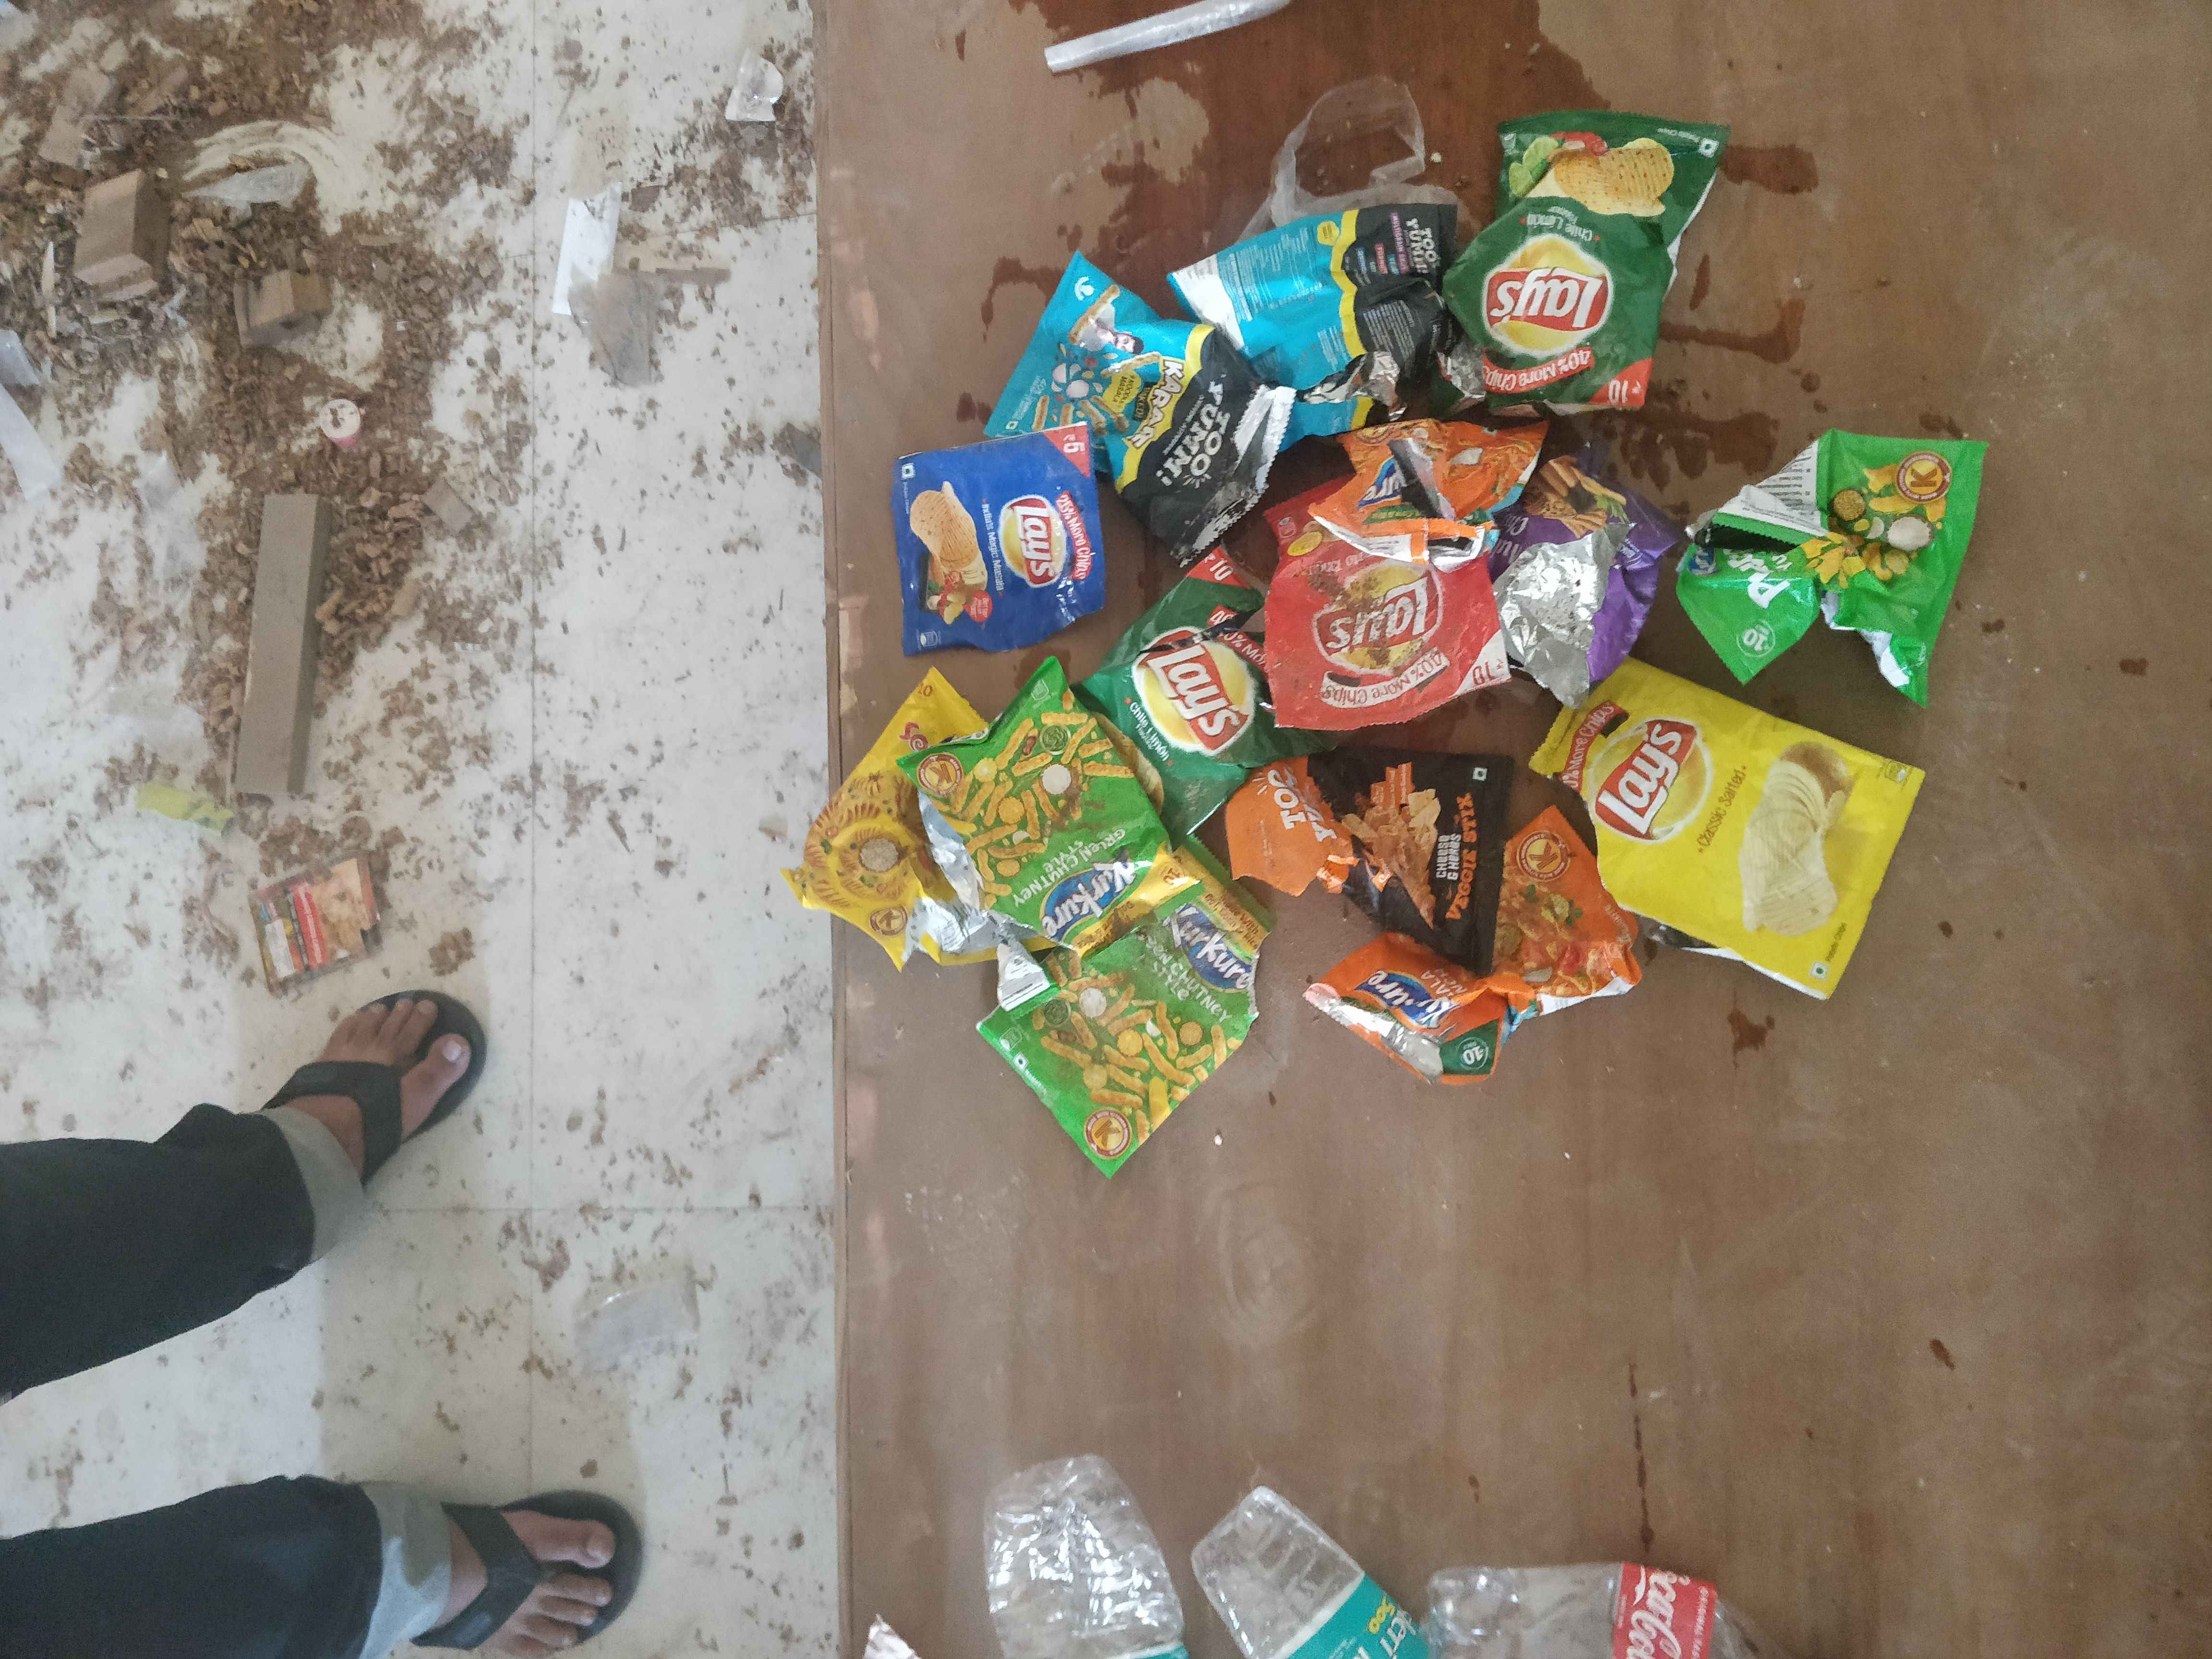Bisleri: (1301, 1575, 1426, 1659)
Coca-Cola: (1625, 1553, 1703, 1659)
Lays: (1130, 608, 1280, 762), (1303, 547, 1487, 657), (1597, 709, 1714, 866), (1484, 230, 1625, 345), (1000, 491, 1073, 596)
kurkure: (1157, 880, 1268, 1000), (1057, 859, 1150, 946), (1366, 960, 1451, 1025), (1367, 455, 1420, 512), (1695, 535, 1728, 582)
tooyumm: (1151, 383, 1252, 495), (1258, 753, 1341, 854), (1414, 216, 1442, 288)
